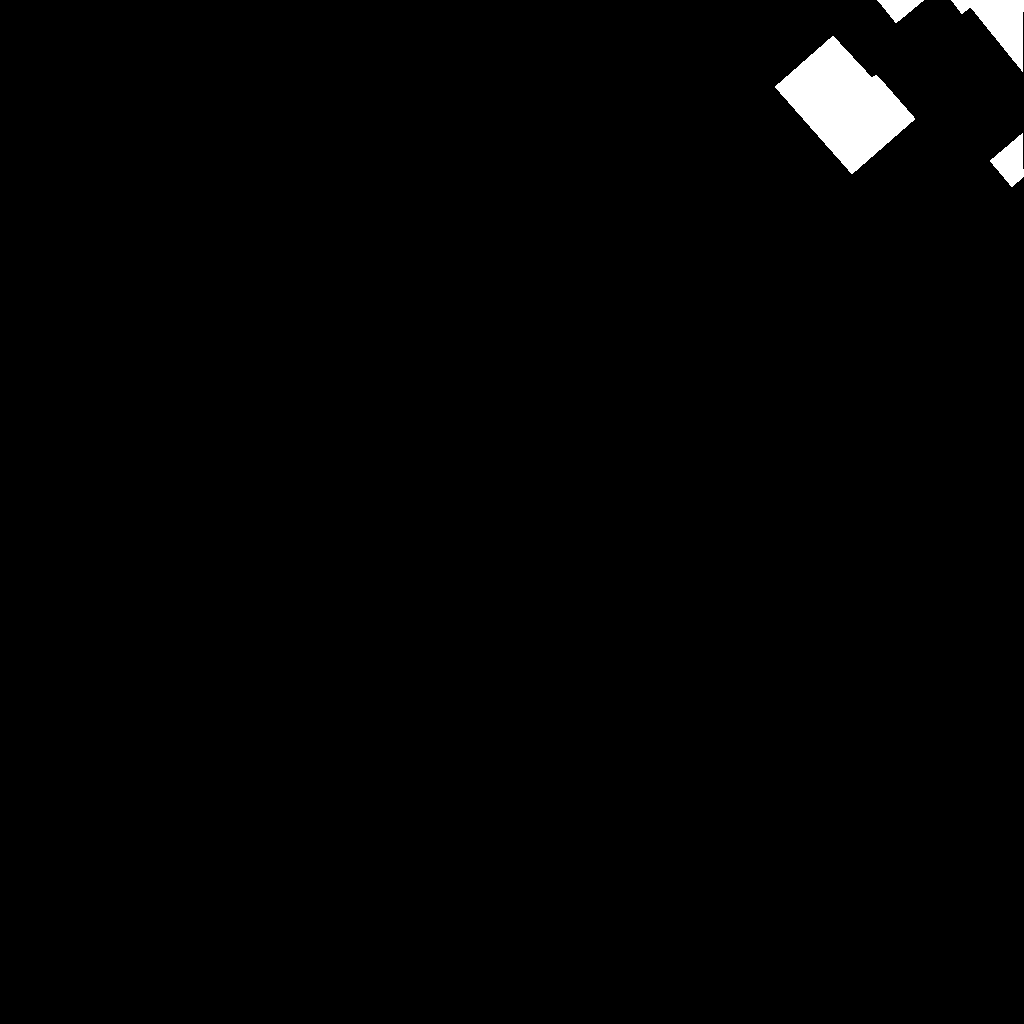building: (775, 36, 916, 175), (877, 0, 1024, 73), (990, 133, 1024, 188)
